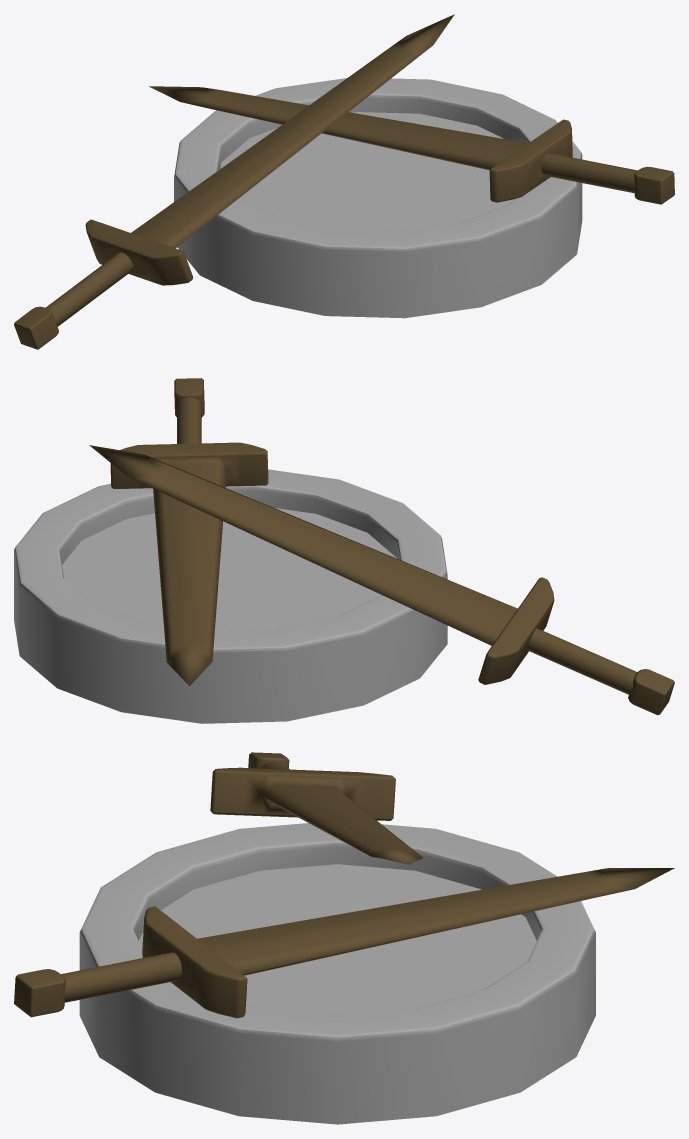
The model's file is MapDeactivatedNodes_Swords.fbx.
3 views of the same model, one above another, from view 1: azimuth 30°, elevation 25°; view 2: azimuth 150°, elevation 25°; view 3: azimuth 270°, elevation 25° (orthographic). The views are drawn at different scales.
Visible parts, largest first — view 1: DeactivatedNodes_Swords; view 2: DeactivatedNodes_Swords; view 3: DeactivatedNodes_Swords.
Boxes of the visible parts, x1=… form: DeactivatedNodes_Swords: x1=14, y1=14, x2=674, y2=349; DeactivatedNodes_Swords: x1=14, y1=378, x2=674, y2=723; DeactivatedNodes_Swords: x1=14, y1=752, x2=674, y2=1124.
Bounding box in the file's own units: 3.17 × 0.9349 × 2.56.
